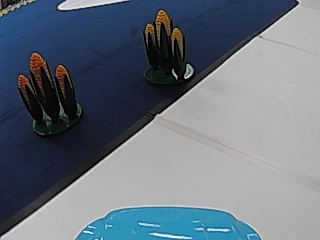corn: (16, 49, 84, 134), (140, 7, 194, 83)
